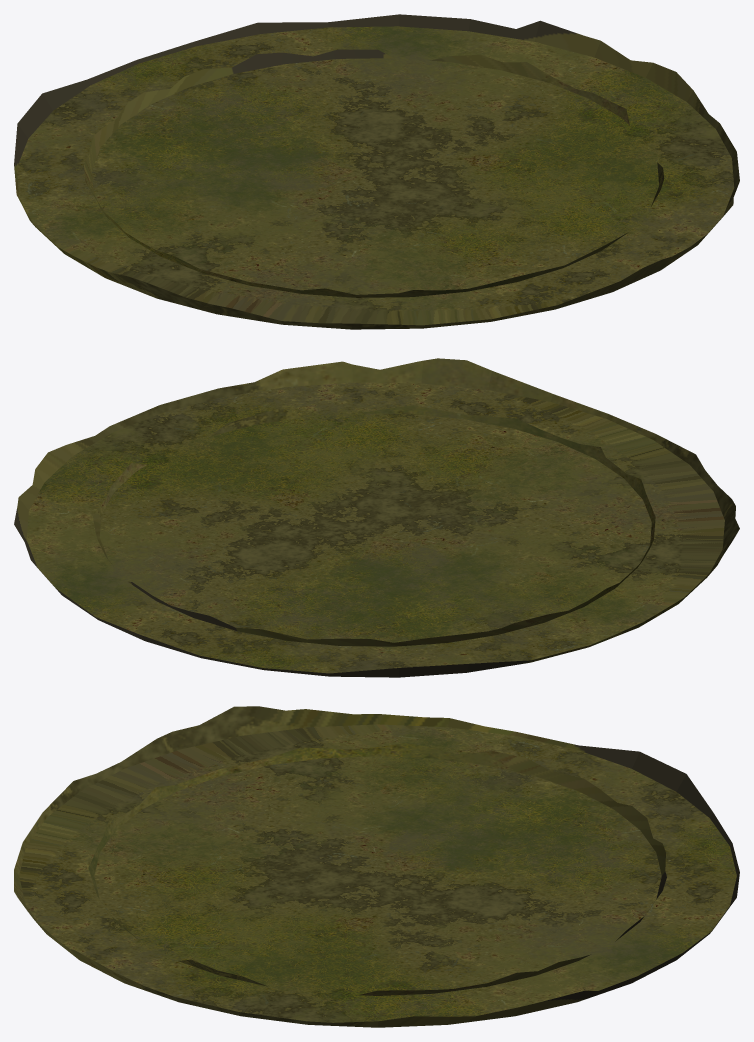
File: test_ground_bg.fbx
3 views of the same model, one above another, from view 1: azimuth 30°, elevation 25°; view 2: azimuth 150°, elevation 25°; view 3: azimuth 270°, elevation 25° (orthographic). The views are drawn at different scales.
Visible parts, largest first — view 1: Cylinder_w_ground.004; view 2: Cylinder_w_ground.004; view 3: Cylinder_w_ground.004.
Boxes of the visible parts, <box> form: Cylinder_w_ground.004: <box>14,14,739,329</box>; Cylinder_w_ground.004: <box>14,358,739,677</box>; Cylinder_w_ground.004: <box>14,706,739,1027</box>.
Bounding box in the file's own units: 10137 × 338 × 10043.
